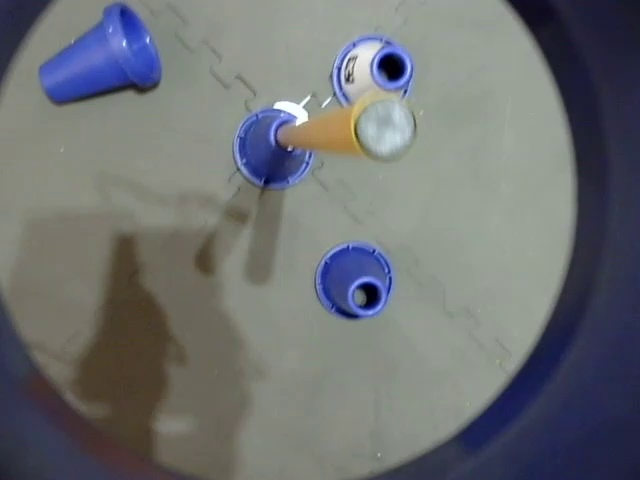tip: (346, 91, 417, 163)
